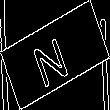N_NW: (33, 24, 77, 86)
